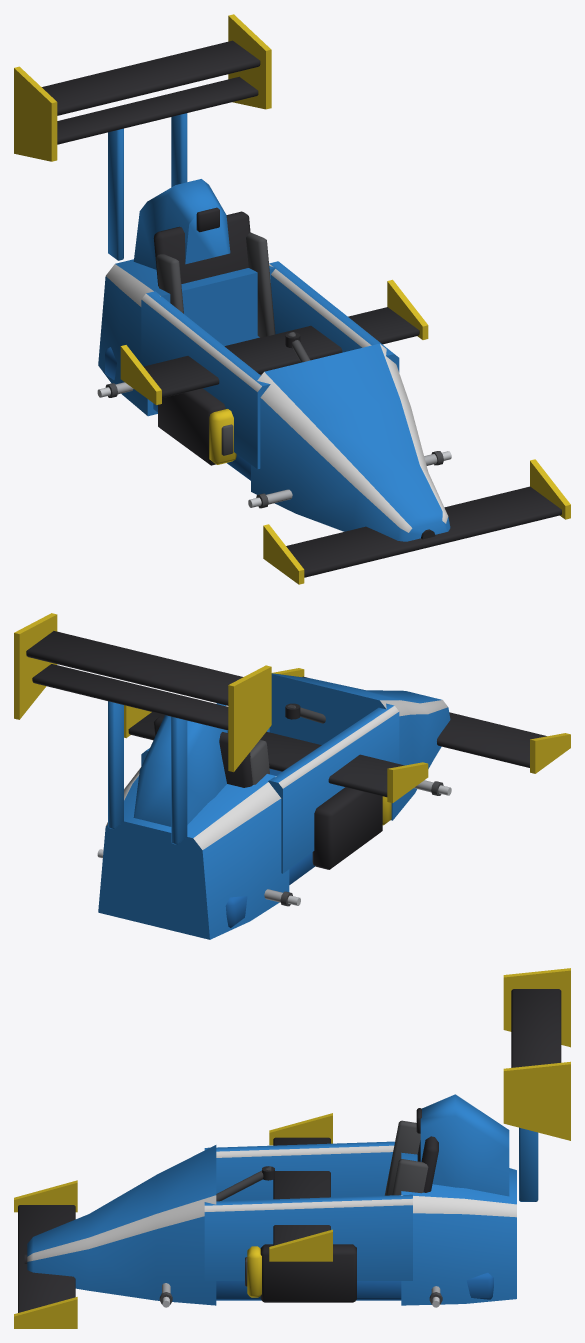
3 renders of one model, top to bottom at view 1: azimuth 30°, elevation 25°; view 2: azimuth 150°, elevation 25°; view 3: azimuth 270°, elevation 25°, orthographic. The views are drawn at different scales.
Visible parts, largest first — view 1: f1, f1_wreck, f1_sig; view 2: f1, f1_wreck, f1_sig; view 3: f1, f1_wreck, f1_sig.
Boxes of the visible parts, left/top/right/bottom form: f1: left=14, top=14, right=570, bottom=584; f1_wreck: left=98, top=254, right=451, bottom=541; f1_sig: left=120, top=279, right=428, bottom=405; f1: left=14, top=613, right=570, bottom=939; f1_wreck: left=98, top=673, right=450, bottom=939; f1_sig: left=124, top=705, right=428, bottom=803; f1: left=14, top=968, right=570, bottom=1328; f1_wreck: left=27, top=1120, right=516, bottom=1307; f1_sig: left=269, top=1113, right=332, bottom=1261.
Size of the model in its own units: 1.46 by 1.48 by 2.89.
